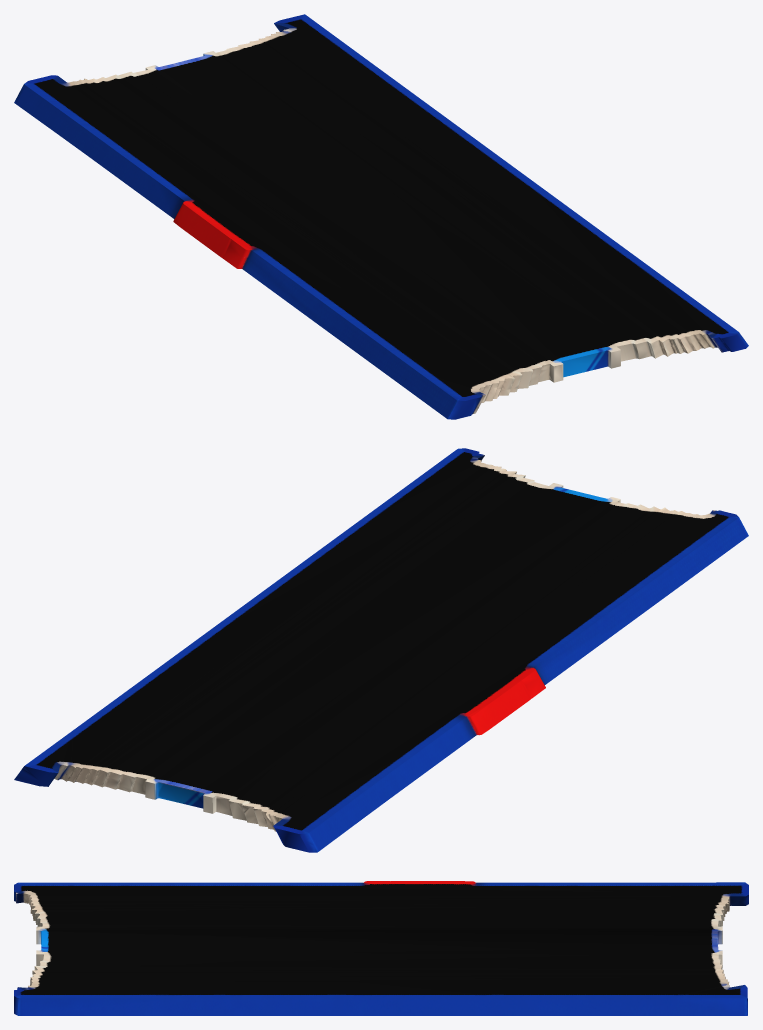
Rendered from 7-roof.fbx.
3 views of the same model, one above another, from view 1: azimuth 30°, elevation 25°; view 2: azimuth 150°, elevation 25°; view 3: azimuth 270°, elevation 25° (orthographic). The views are drawn at different scales.
Visible parts, largest first — view 1: roof; view 2: roof; view 3: roof.
Boxes of the visible parts, x1,y1,x2,y2 form: roof: (14,14,748,419); roof: (14,448,748,852); roof: (14,881,748,1015).
Size of the model in its own units: 7528 by 381 by 18661.
1 material, 1 textured.
